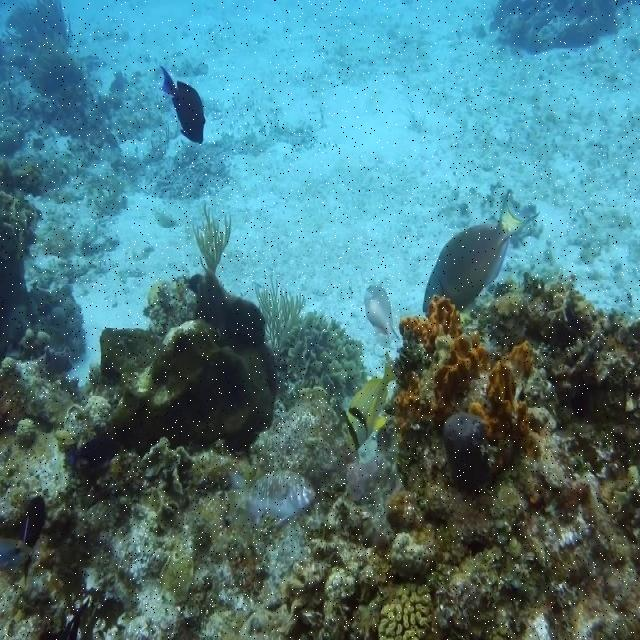fish: (423, 188, 541, 312), (340, 348, 395, 452), (243, 471, 314, 527), (159, 65, 206, 144), (364, 284, 400, 342)
reefs: (238, 265, 639, 639)
sea-floor: (0, 272, 280, 533)
